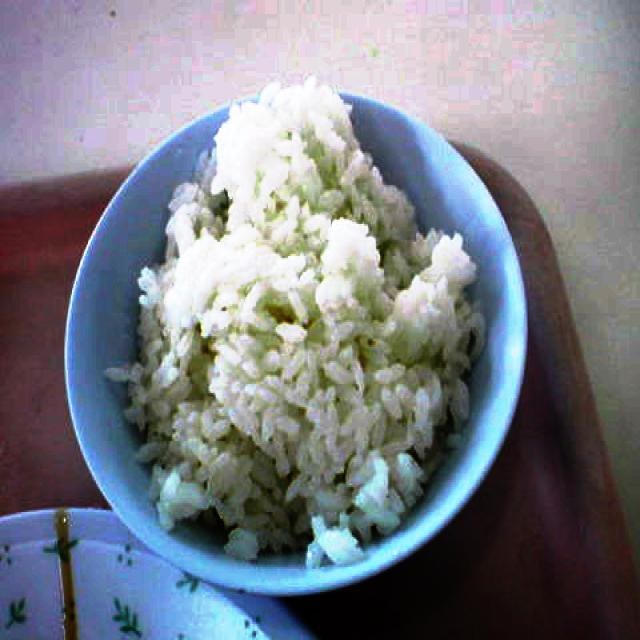rice: (100, 78, 484, 567)
